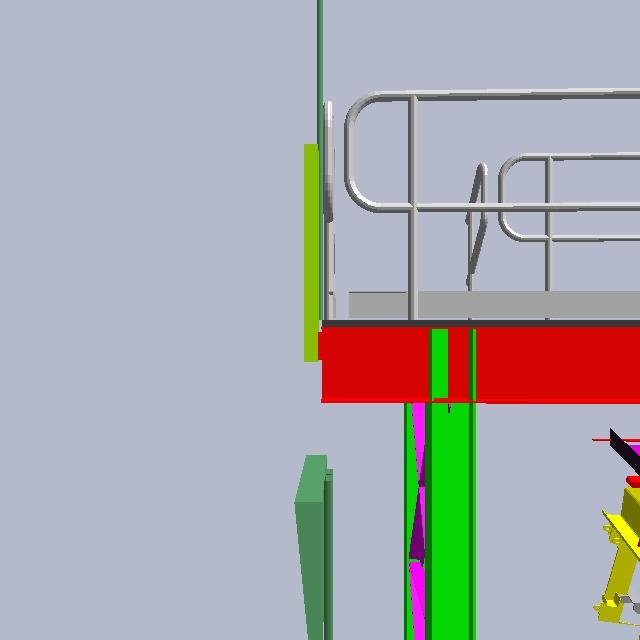Poste: (315, 1, 335, 351)
Soporte: (289, 126, 348, 382)
